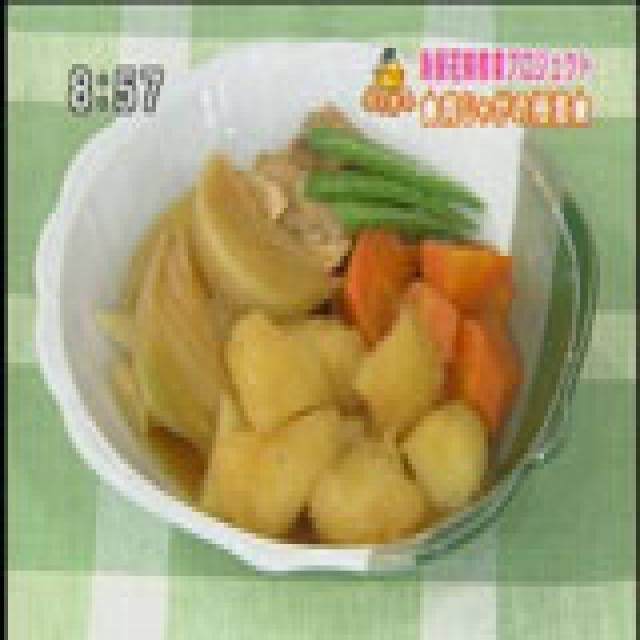牛肉菜式: (92, 149, 528, 544)
